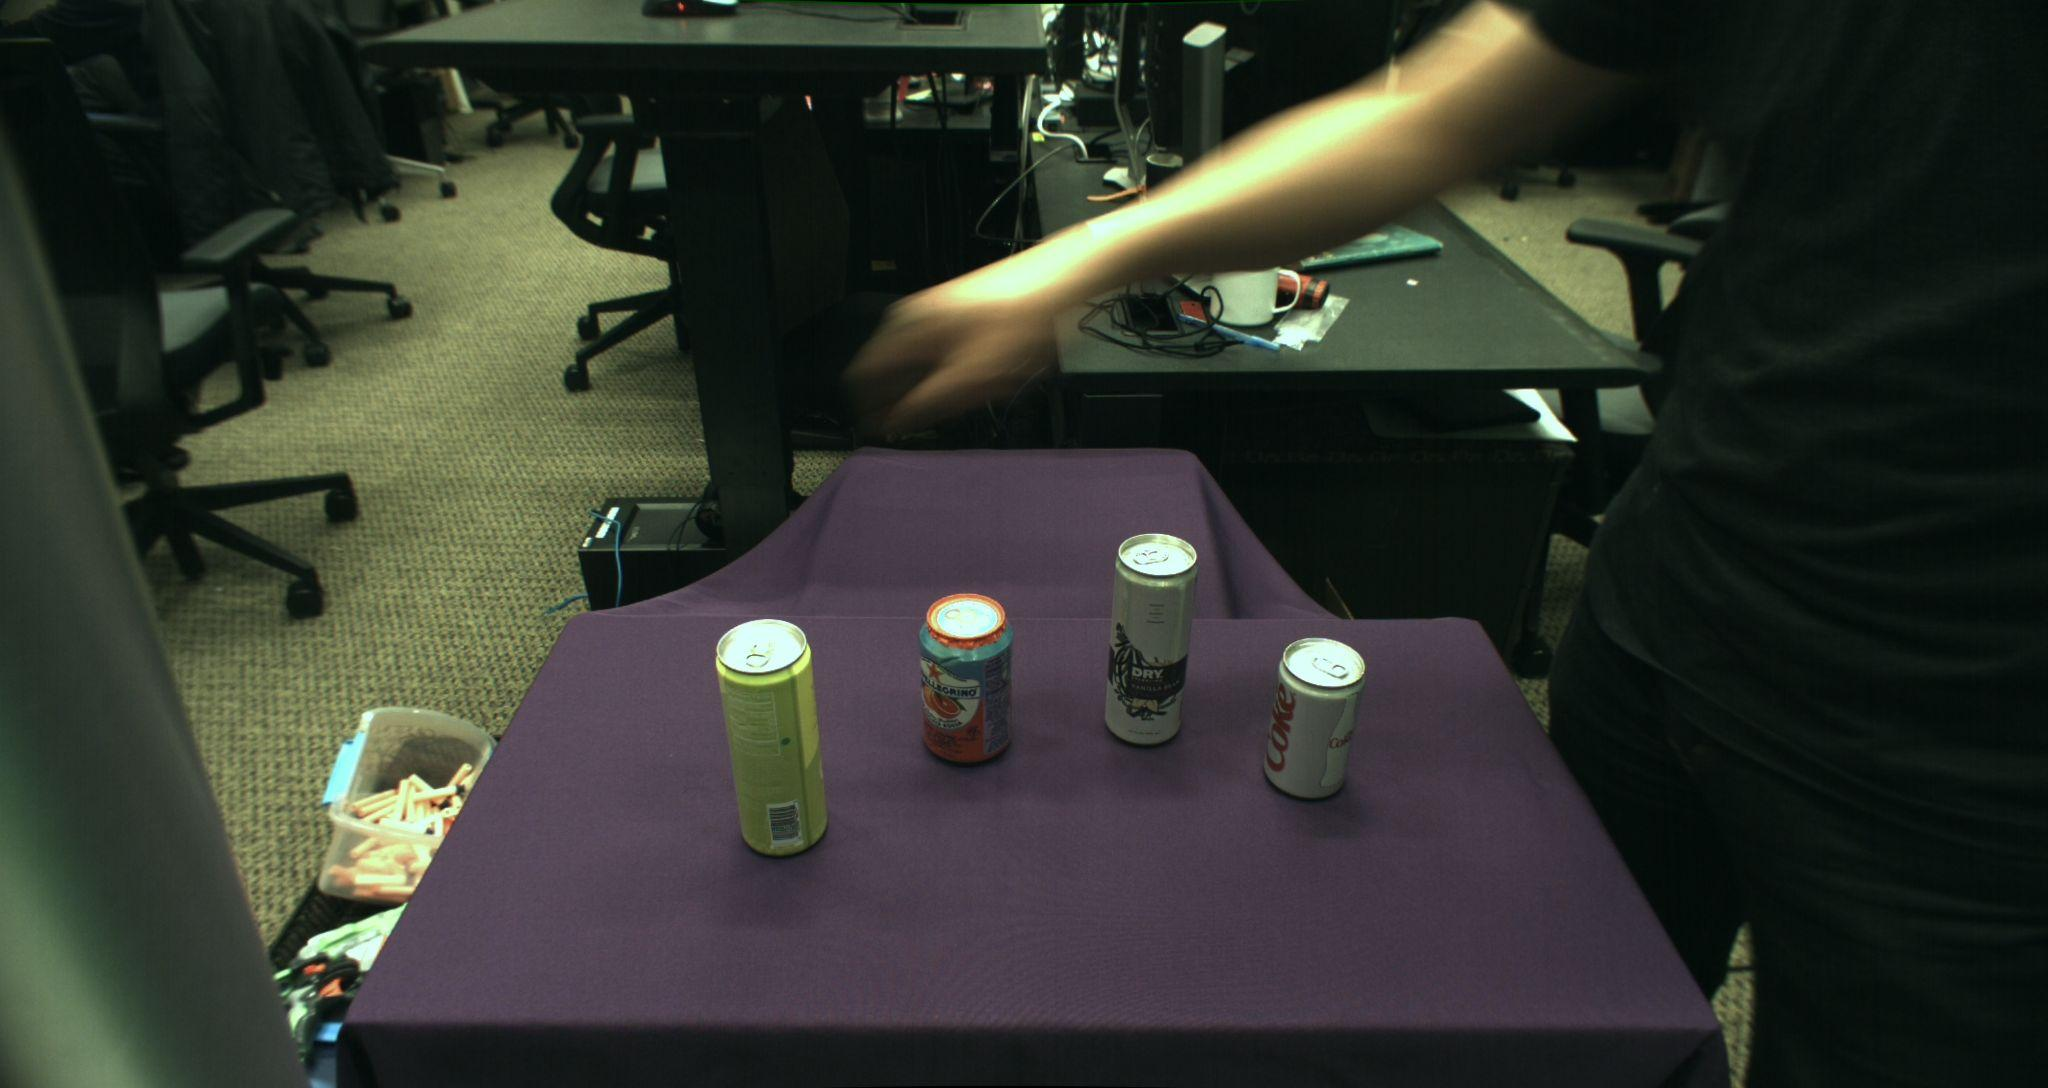can_diet_coke_small: (1264, 637, 1365, 799)
can_dry_sparkling_vanilla_bean: (1104, 532, 1197, 747)
can_izze_fusions_lemon_lime: (715, 618, 828, 856)
can_sanpellegrino_blood_orange: (918, 591, 1010, 764)
